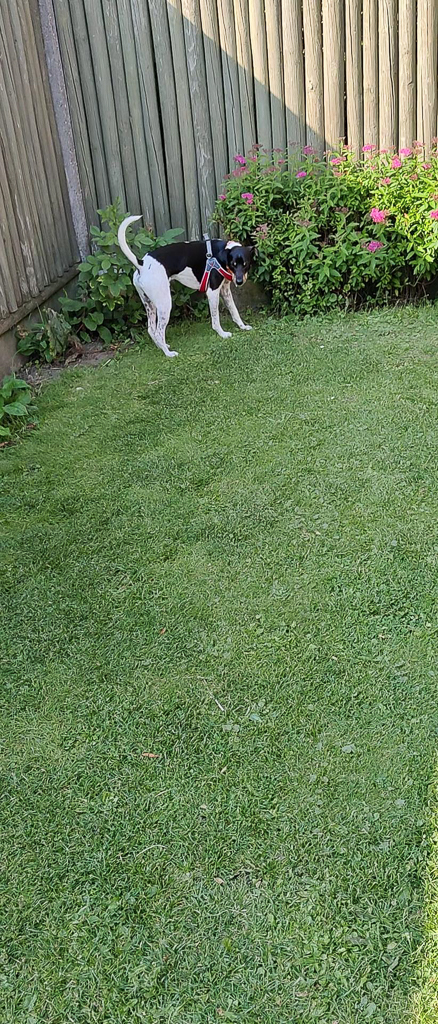Dog: (109, 205, 277, 363)
